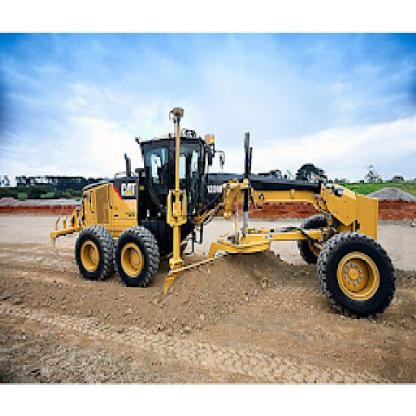bull_dozer/loader/grader: (59, 107, 402, 326)
